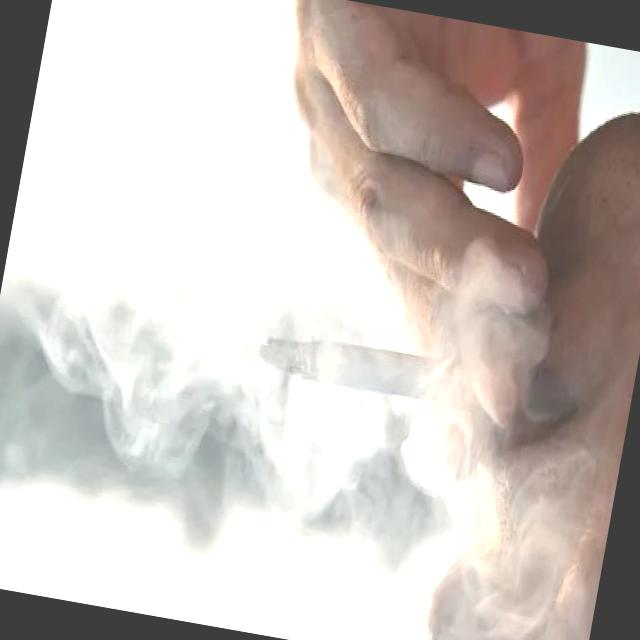cigarette: (244, 305, 476, 422)
